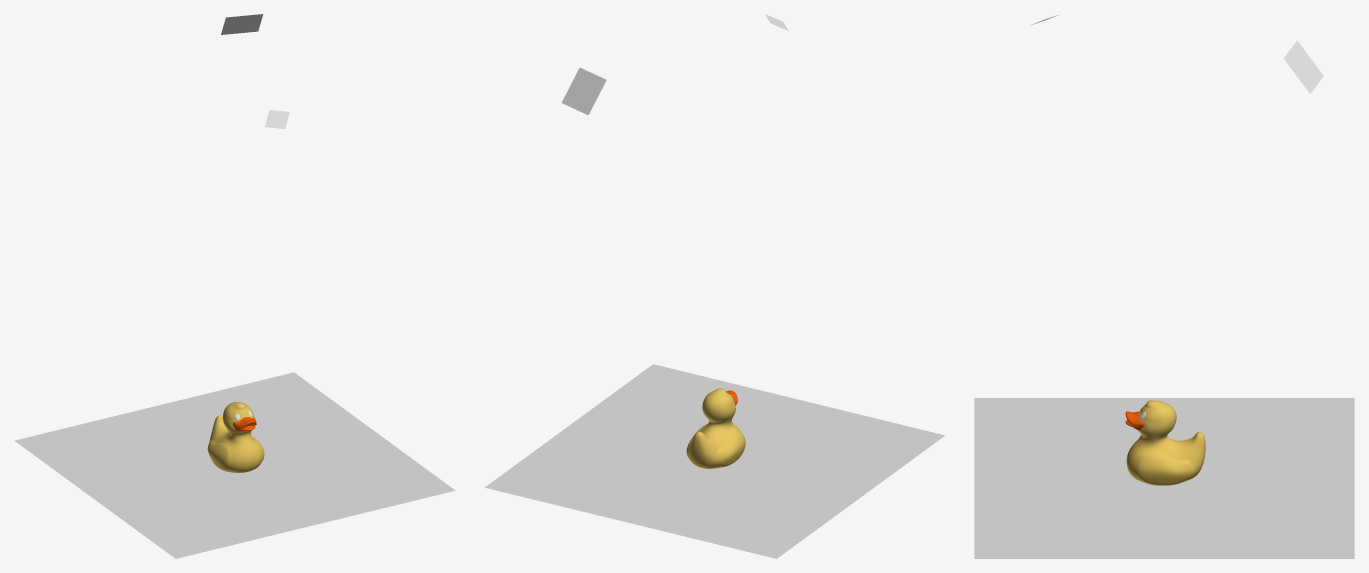
The model's file is RubberDuck.fbx.
3 renders of one model, left to right at view 1: azimuth 30°, elevation 25°; view 2: azimuth 150°, elevation 25°; view 3: azimuth 270°, elevation 25°, orthographic. The views are drawn at different scales.
Visible parts, largest first — view 1: Ground Plane, Rubber Duck, Light1; view 2: Ground Plane, Rubber Duck, Light1; view 3: Ground Plane, Rubber Duck, Light1.
Boxes of the visible parts, bbox=[...] form: Ground Plane: bbox=[14, 372, 455, 558]; Rubber Duck: bbox=[207, 402, 264, 472]; Light1: bbox=[221, 14, 263, 34]; Ground Plane: bbox=[485, 364, 944, 558]; Rubber Duck: bbox=[686, 388, 745, 468]; Light1: bbox=[561, 67, 606, 115]; Ground Plane: bbox=[974, 398, 1354, 558]; Rubber Duck: bbox=[1125, 400, 1205, 485]; Light1: bbox=[1284, 40, 1323, 93].
Size of the model in its own units: 1600 by 2159 by 1600.
